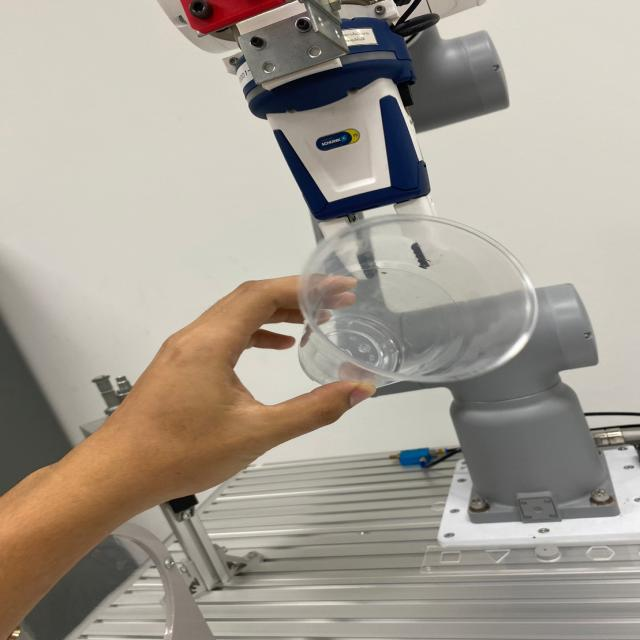glass: (281, 203, 562, 398)
